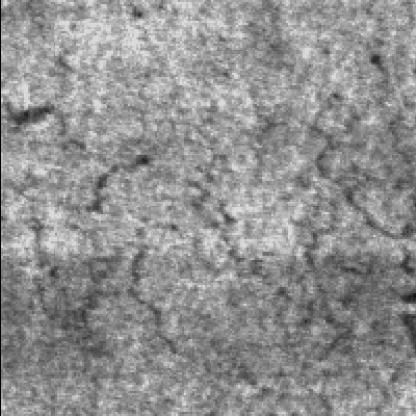crazing: (0, 94, 177, 368), (268, 100, 410, 416), (167, 86, 278, 400)
